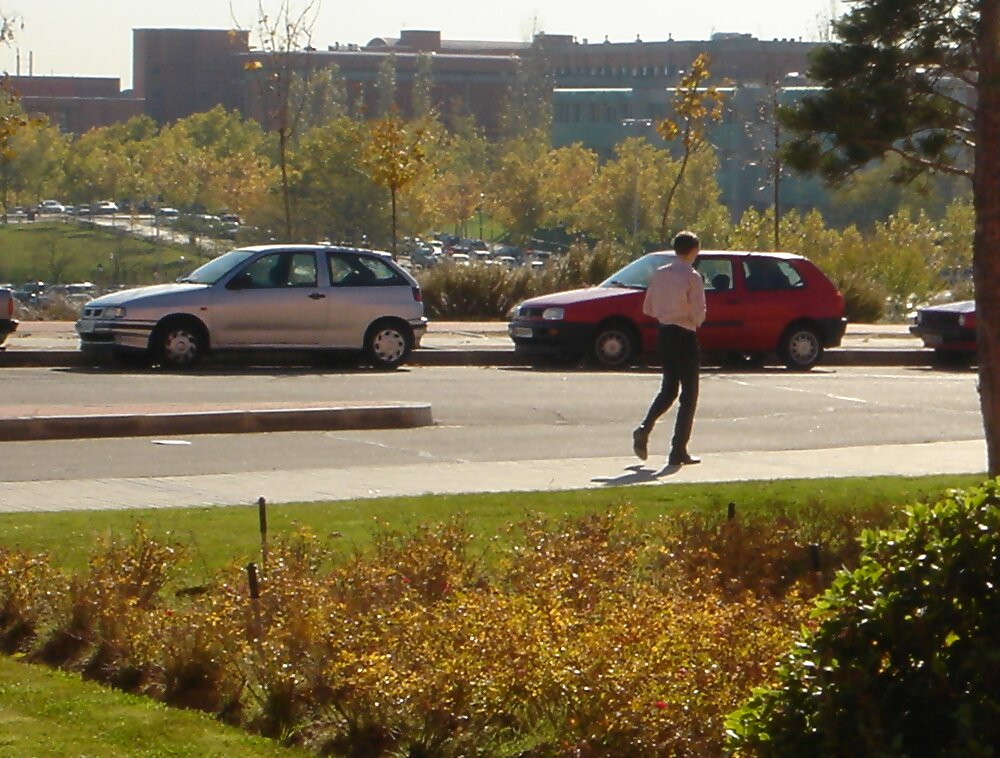person: (631, 227, 720, 467)
